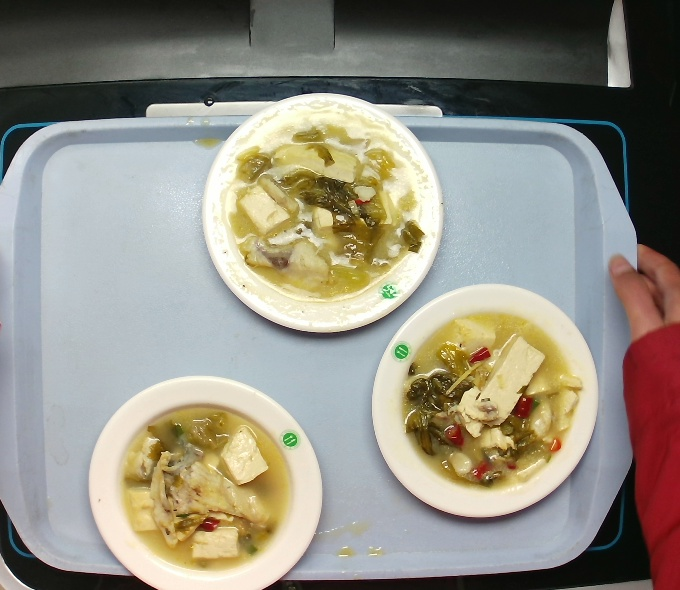wcq-SuanCaiDouFuYu: (209, 111, 435, 306), (395, 305, 578, 495), (119, 406, 289, 567)
